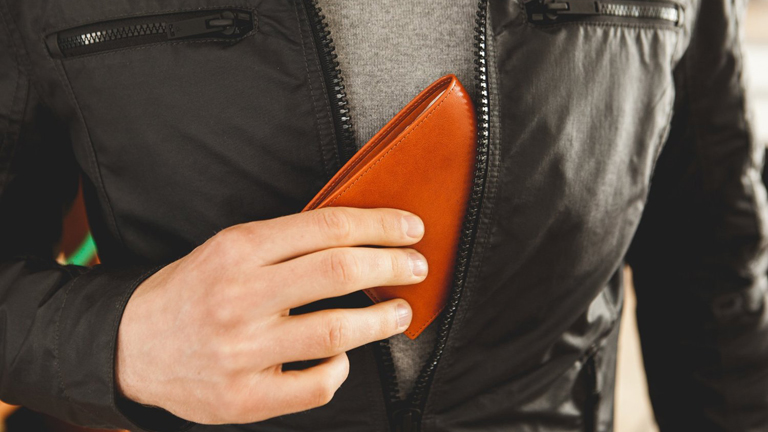monedero: (295, 71, 483, 342)
